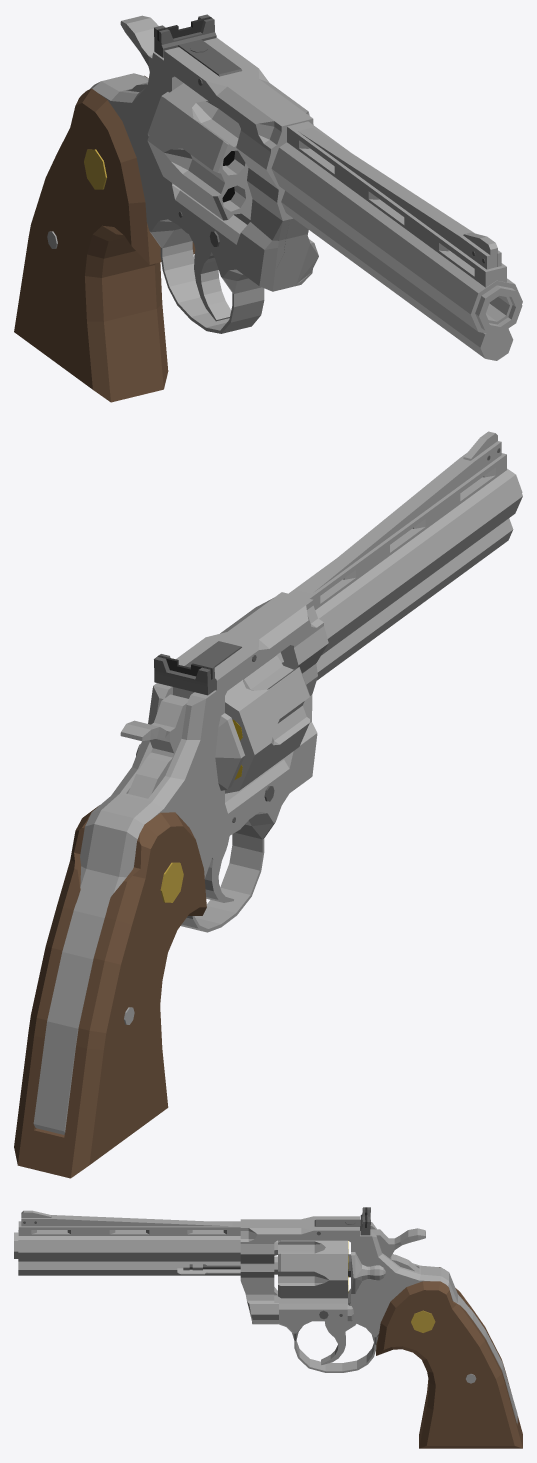
File: 38special.gltf
3 views of the same model, one above another, from view 1: azimuth 30°, elevation 25°; view 2: azimuth 150°, elevation 25°; view 3: azimuth 270°, elevation 25° (orthographic). The views are drawn at different scales.
Parts seen in each view (by area): view 1: Colt Python 1, Colt Python 1 Cylinder 1, Colt Python 1 Trigger 1, Colt Python 1 Crane 1, Colt Python 1 Hammer 1; view 2: Colt Python 1, Colt Python 1 Cylinder 1, Colt Python 1 Hammer 1, Colt Python 1 Trigger 1; view 3: Colt Python 1, Colt Python 1 Cylinder 1, Colt Python 1 Crane 1, Colt Python 1 Hammer 1, Colt Python 1 Latch 1, Colt Python 1 Trigger 1, Colt Python 1 Rod 1.
Boxes of the visible parts, <box> form: Colt Python 1: <box>14,14,522,402</box>; Colt Python 1 Cylinder 1: <box>147,83,252,224</box>; Colt Python 1 Trigger 1: <box>189,234,231,321</box>; Colt Python 1 Crane 1: <box>276,216,318,284</box>; Colt Python 1 Hammer 1: <box>120,15,158,92</box>; Colt Python 1: <box>14,431,522,1178</box>; Colt Python 1 Cylinder 1: <box>225,655,309,793</box>; Colt Python 1 Hammer 1: <box>120,694,188,798</box>; Colt Python 1 Trigger 1: <box>204,836,233,902</box>; Colt Python 1: <box>14,1207,522,1448</box>; Colt Python 1 Cylinder 1: <box>278,1240,347,1298</box>; Colt Python 1 Crane 1: <box>240,1256,277,1321</box>; Colt Python 1 Hammer 1: <box>370,1228,425,1272</box>; Colt Python 1 Latch 1: <box>351,1252,385,1293</box>; Colt Python 1 Trigger 1: <box>321,1321,356,1364</box>; Colt Python 1 Rod 1: <box>183,1254,350,1277</box>.
Bounding box in the file's own units: 0.0433 × 0.1586 × 0.3185.
